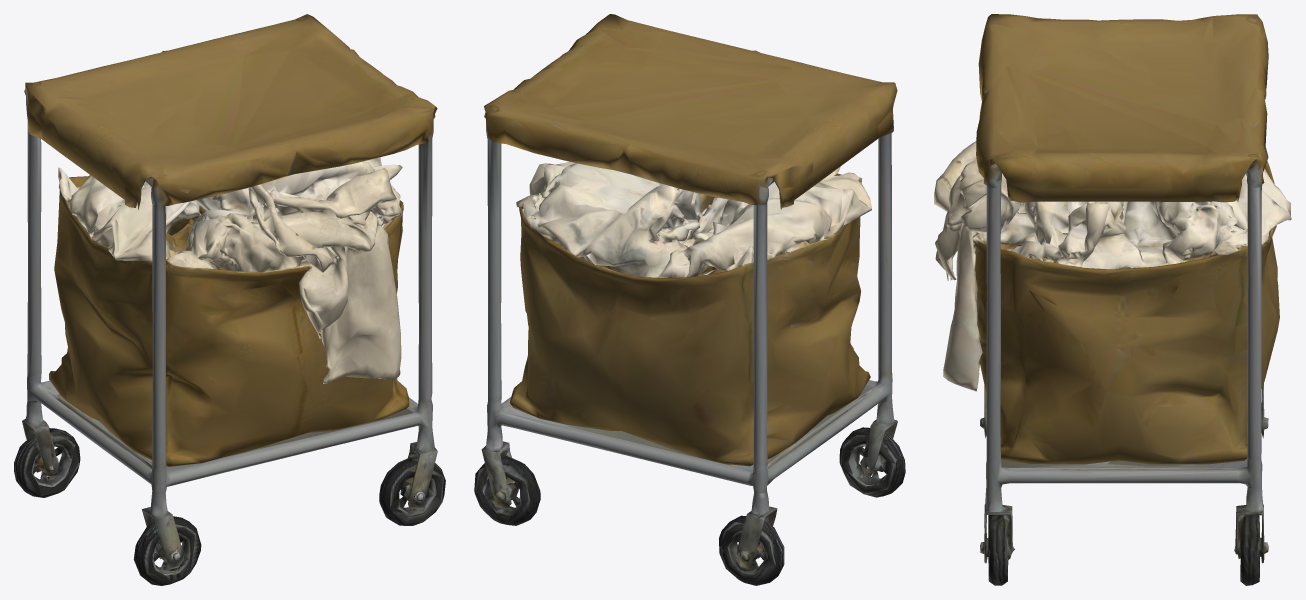
The model's file is CompleteDirtyLaundryCart_Optimized.glb.
3 views of the same model, side by side, from view 1: azimuth 30°, elevation 25°; view 2: azimuth 150°, elevation 25°; view 3: azimuth 270°, elevation 25° (orthographic). The views are drawn at different scales.
Parts seen in each view (by area): view 1: Mesh_0.002; view 2: Mesh_0.002; view 3: Mesh_0.002.
Part boxes in pixels (x1,y1,x2,y2): Mesh_0.002: (14,14,445,585); Mesh_0.002: (474,14,905,585); Mesh_0.002: (934,14,1291,585).
Bounding box in the file's own units: 1.48 × 1.9 × 1.42.
1 material, 1 textured.
